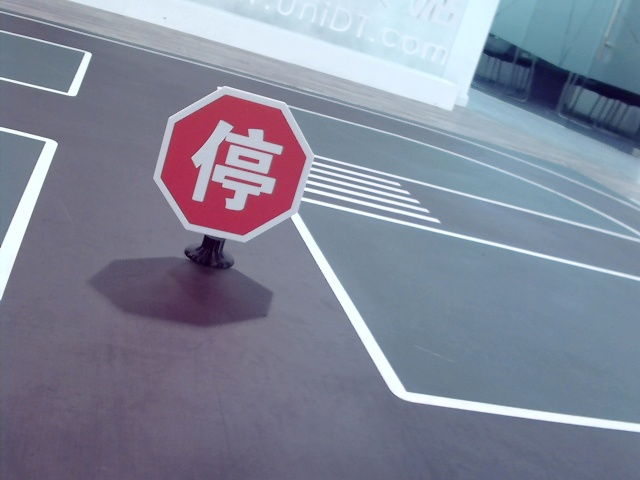stop: (188, 122, 276, 205)
